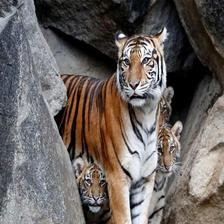tiger: (49, 23, 209, 224), (66, 141, 119, 220), (149, 122, 192, 180)
